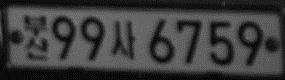5: (208, 20, 235, 65)
6: (147, 18, 175, 64)
7: (176, 18, 202, 64)
9: (237, 20, 264, 66), (50, 15, 76, 60), (79, 16, 105, 61)
부산_V: (23, 14, 49, 63)
사: (110, 21, 137, 59)
